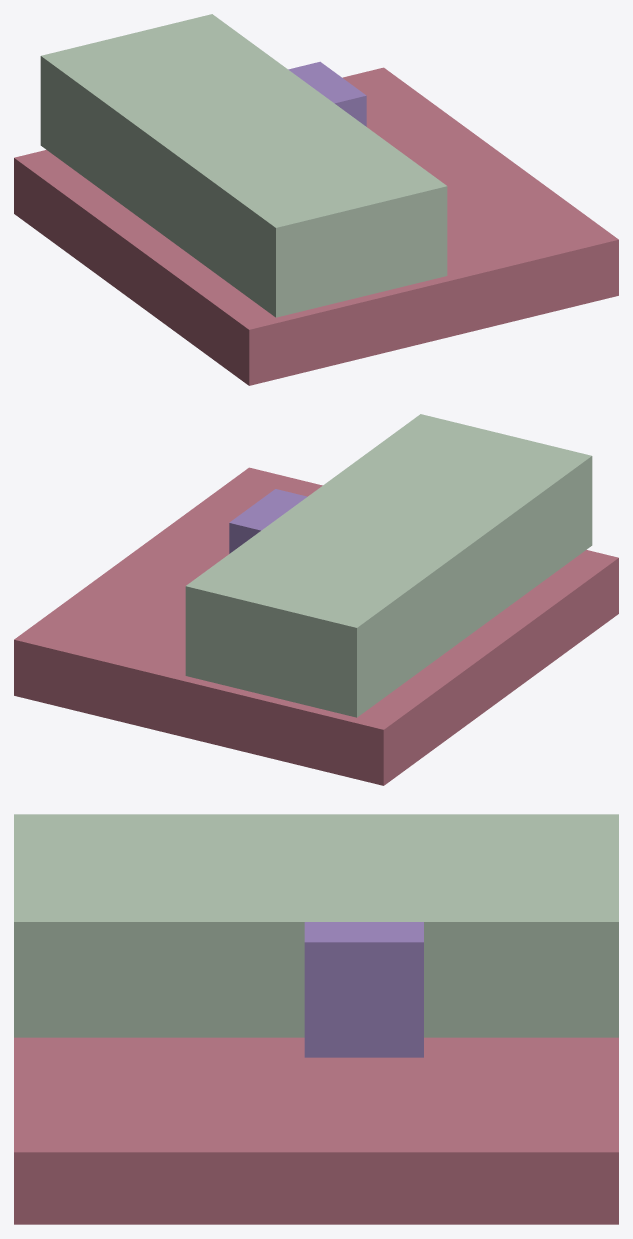
3 views of the same model, one above another, from view 1: azimuth 30°, elevation 25°; view 2: azimuth 150°, elevation 25°; view 3: azimuth 270°, elevation 25° (orthographic). The views are drawn at different scales.
Parts seen in each view (by area): view 1: world; view 2: world; view 3: world.
Part boxes in pixels (box(x1,y1,x2,y2)): world: box(14, 14, 618, 385); world: box(14, 414, 618, 785); world: box(14, 814, 618, 1224).
Bounding box in the file's own units: 6.9 × 2.7 × 7.6.
